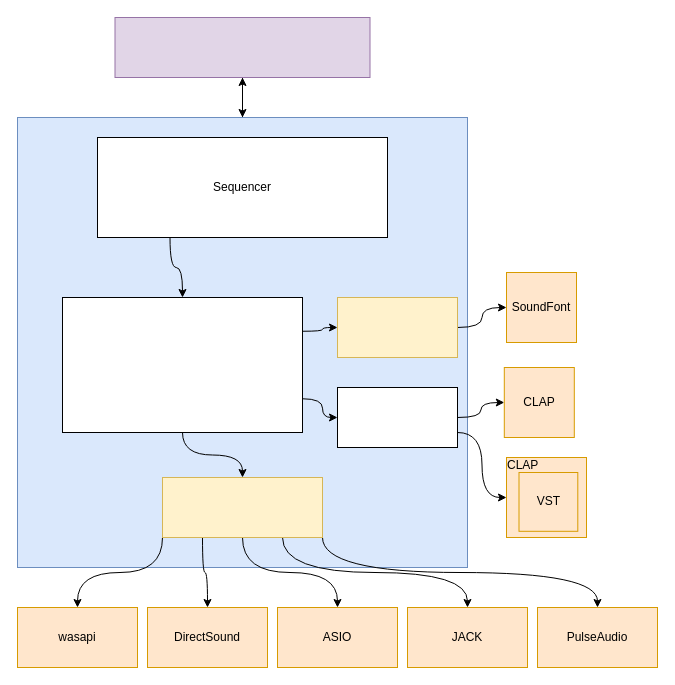
Some shapes in this 675 by 685 pixel diagram are drawn without their labels. The shapes that lost their labels are listed below. From the top down, each one's box as (x1, y1, x2, y2) in pixels, then its label:
(114, 16, 370, 78): Application
(336, 296, 458, 358): FluidSynth
(62, 296, 302, 432): Engine
(336, 386, 458, 448): CLAP Host
(162, 476, 322, 538): PortAudio
